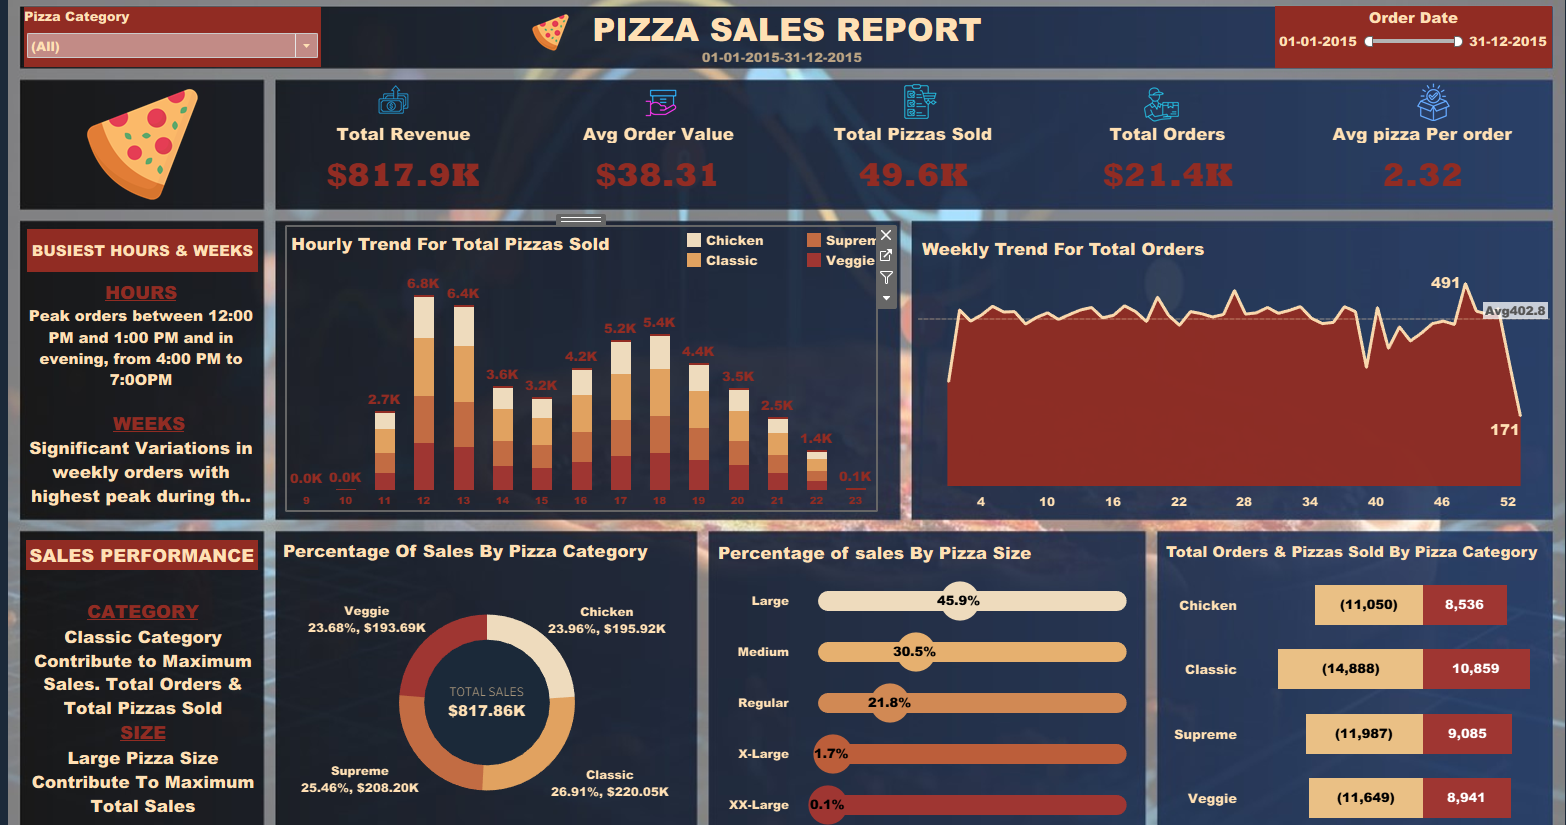

This screenshot's page, from the dashboard's own definition file:
{"tool":"tableau","page":{"name":"Dashboard 1","canvas":[1600,900],"ordinal":0},"visuals":[{"type":"image","param":"Image/Pizza Tableau 1.jpg","box":[8,8,1584,884]},{"type":"filter","title":"Hourly Trend For Total Pizzas Sold","param":"[federated.1sok1fc0fa7kd71fxutw907ituoq].[none:order_date:qk]","box":[1288,21,277,62]},{"type":"filter","title":"Hourly Trend For Total Pizzas Sold","param":"[federated.1sok1fc0fa7kd71fxutw907ituoq].[none:pizza_category:nk]","box":[37,22,297,60]},{"type":"text","box":[602,27,397,34]},{"type":"image","param":"Image/pizza-slice.png","box":[537,28,53,38]},{"type":"worksheet","title":"Date Range","mark":"Automatic","box":[704,60,182,25]},{"type":"image","param":"Image/profit-growth.png","box":[375,97,62,34]},{"type":"image","param":"Image/order-delivery.png","box":[914,98,39,36]},{"type":"image","param":"Image/order (1).png","box":[1425,98,43,38]},{"type":"image","param":"Image/shipping-box.png","box":[653,100,42,35]},{"type":"image","param":"Image/pizza-slice.png","box":[47,101,216,116]},{"type":"image","param":"Image/delivery-man.png","box":[1153,101,43,36]},{"type":"worksheet","title":"KPI Banner","mark":"Automatic","box":[289,138,1274,84]},{"type":"worksheet","title":"Hourly Trend For Total Pizzas Sold","mark":"Bar","rows":["Calculation_1482987780141059","Calculation_1482987780141059"],"cols":["order_time"],"box":[300,242,589,283]},{"type":"text","box":[40,244,231,43]},{"type":"legend","title":"Hourly Trend For Total Pizzas Sold","param":"[federated.1sok1fc0fa7kd71fxutw907ituoq].[none:pizza_category:nk]","box":[697,245,248,45]},{"type":"worksheet","title":"Weekly Trend For Total Orders","mark":"Area","rows":["Calculation_1482987779747841","Calculation_1482987779747841"],"cols":["order_date"],"box":[931,247,632,284]},{"type":"text","box":[37,296,234,230]},{"type":"worksheet","title":"Percentage Of Sales By Pizza Category","mark":"Pie","rows":["Calculation_1482987810885638","Calculation_1482987811053576"],"box":[292,549,416,298]},{"type":"worksheet","title":"Percentage of sales By Pizza Size","mark":"Line","rows":["pizza_size"],"box":[727,551,427,294]},{"type":"worksheet","title":"Total Orders & Pizzas Sold By Pizza Category","mark":"Automatic","rows":["pizza_category"],"box":[1175,551,388,294]},{"type":"text","box":[39,555,232,30]},{"type":"text","box":[40,592,232,263]}]}

Visuals, with their boxes on the page's 1600x900 design canvas (x1, y1, x2, y2). These are canvas units, not pixel positions in the 1566x825 screenshot, which may show the page scaled, cropped or inside an application window:
image: <bbox>8, 8, 1592, 892</bbox>
"Hourly Trend For Total Pizzas Sold" filter: <bbox>1288, 21, 1565, 83</bbox>
"Hourly Trend For Total Pizzas Sold" filter: <bbox>37, 22, 334, 82</bbox>
text: <bbox>602, 27, 999, 61</bbox>
image: <bbox>537, 28, 590, 66</bbox>
"Date Range" worksheet: <bbox>704, 60, 886, 85</bbox>
image: <bbox>375, 97, 437, 131</bbox>
image: <bbox>914, 98, 953, 134</bbox>
image: <bbox>1425, 98, 1468, 136</bbox>
image: <bbox>653, 100, 695, 135</bbox>
image: <bbox>47, 101, 263, 217</bbox>
image: <bbox>1153, 101, 1196, 137</bbox>
"KPI Banner" worksheet: <bbox>289, 138, 1563, 222</bbox>
"Hourly Trend For Total Pizzas Sold" worksheet (Bar marks): <bbox>300, 242, 889, 525</bbox>
text: <bbox>40, 244, 271, 287</bbox>
"Hourly Trend For Total Pizzas Sold" legend: <bbox>697, 245, 945, 290</bbox>
"Weekly Trend For Total Orders" worksheet (Area marks): <bbox>931, 247, 1563, 531</bbox>
text: <bbox>37, 296, 271, 526</bbox>
"Percentage Of Sales By Pizza Category" worksheet (Pie marks): <bbox>292, 549, 708, 847</bbox>
"Percentage of sales By Pizza Size" worksheet (Line marks): <bbox>727, 551, 1154, 845</bbox>
"Total Orders & Pizzas Sold By Pizza Category" worksheet: <bbox>1175, 551, 1563, 845</bbox>
text: <bbox>39, 555, 271, 585</bbox>
text: <bbox>40, 592, 272, 855</bbox>
